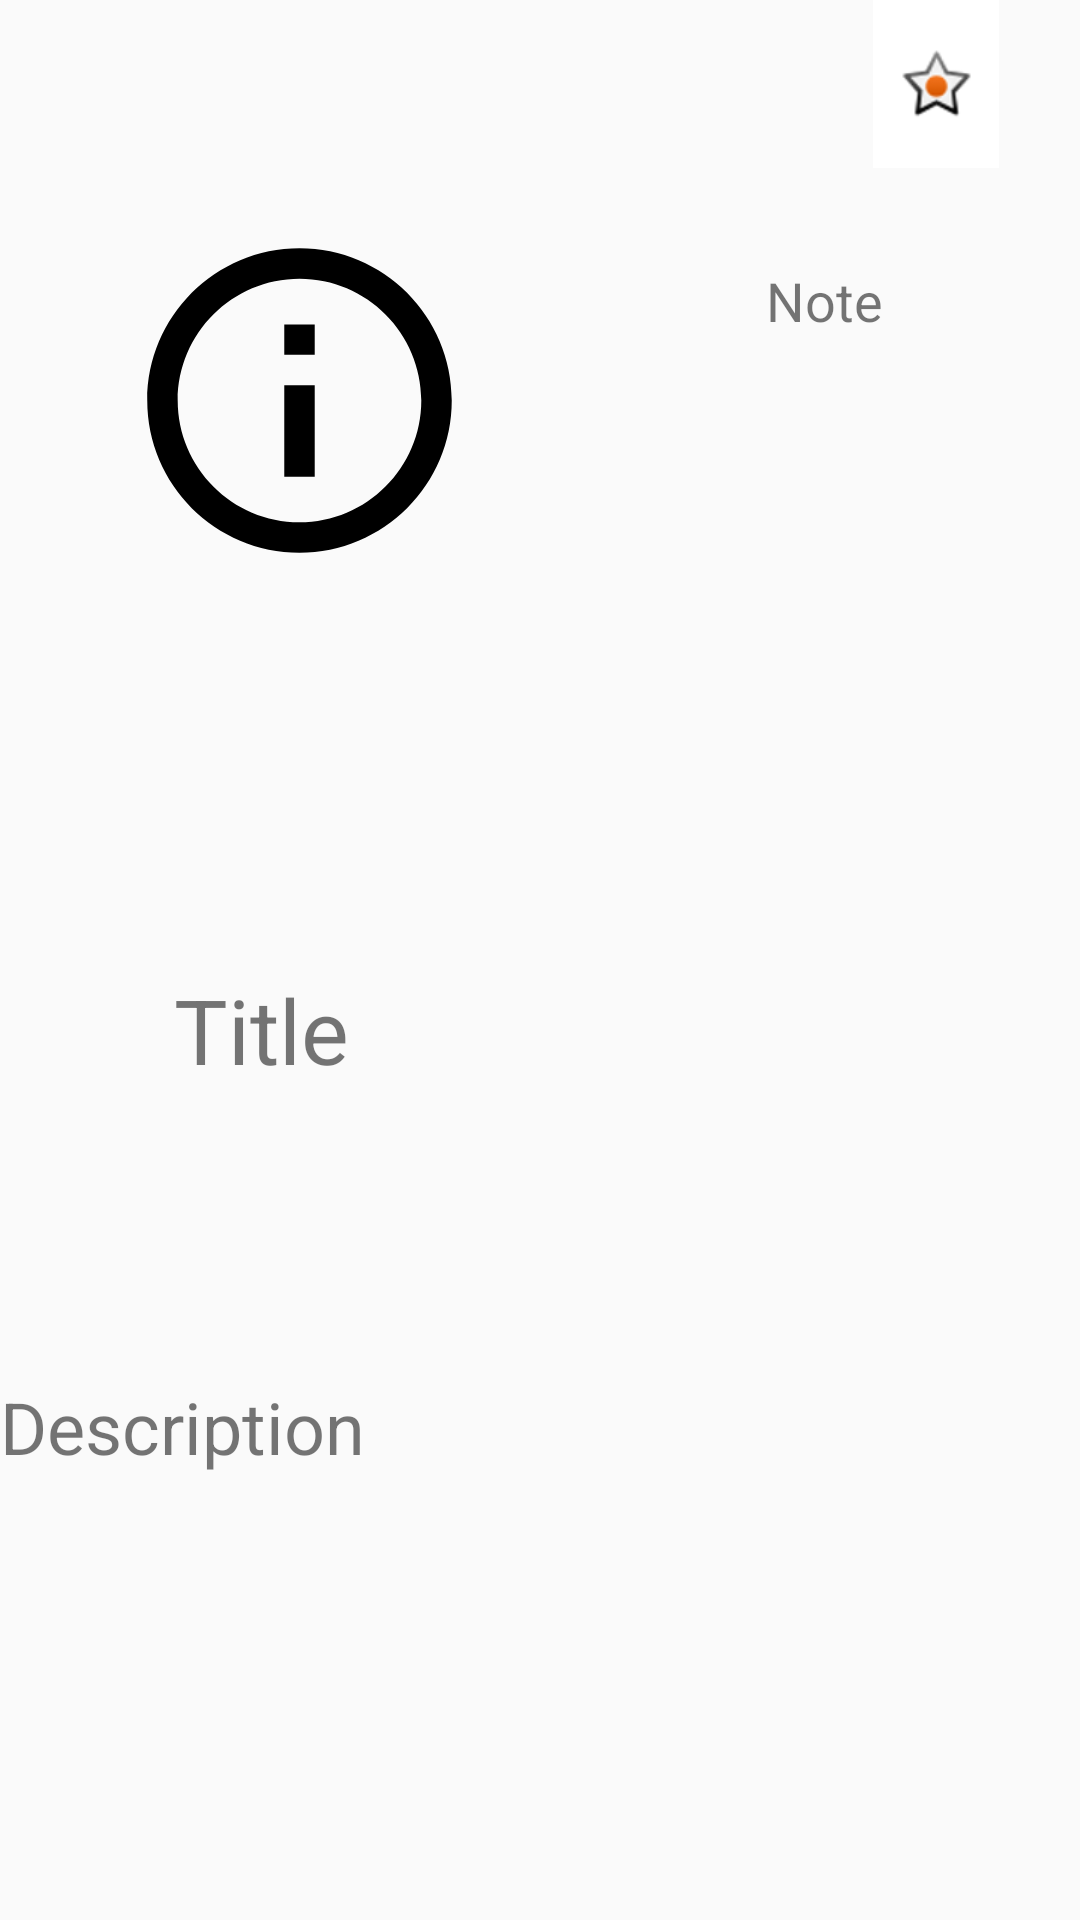

Icons on this 1080x1920 Android screen, each with its box as (x1, y1, x2, y2):
star on: (902, 51, 971, 116)
